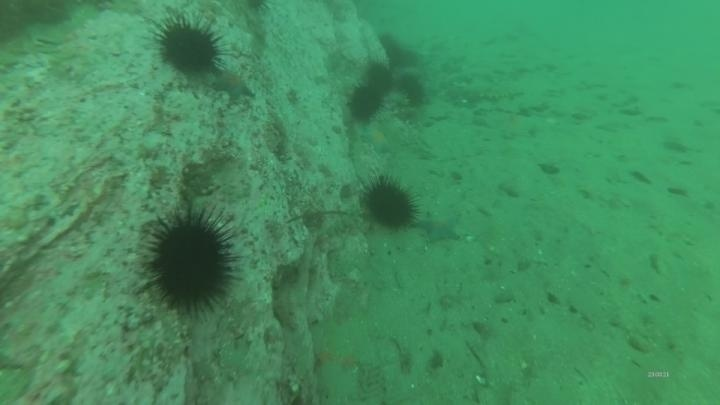echinus: (141, 207, 239, 315), (152, 16, 225, 79), (359, 174, 420, 232), (346, 83, 385, 123), (377, 32, 418, 70), (395, 71, 429, 108), (362, 60, 395, 94)
holothurian: (445, 76, 525, 107)
starfish: (414, 210, 463, 245), (210, 67, 256, 101), (359, 122, 396, 155)
